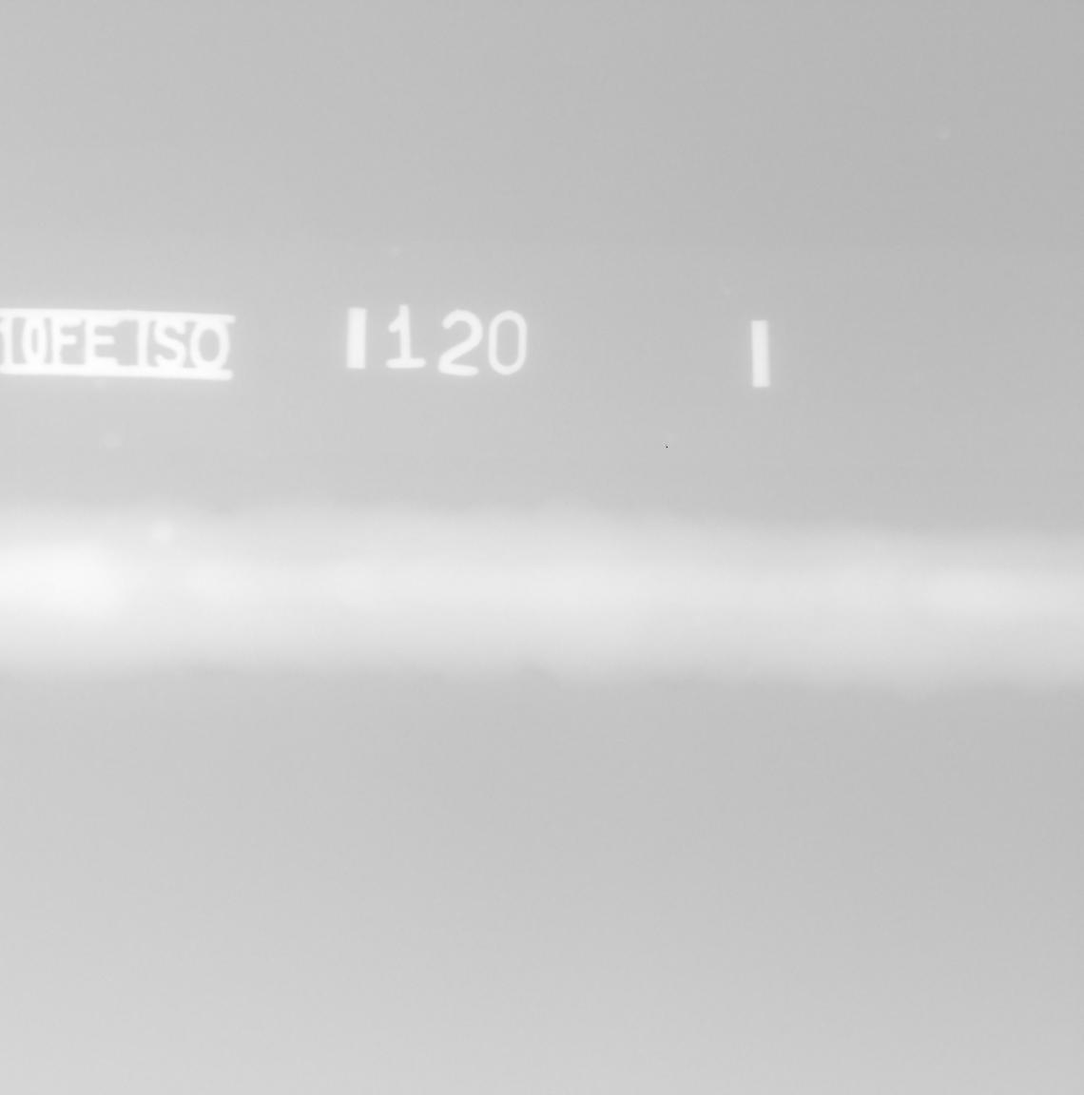Pore/Porosity: (690, 672, 704, 679), (699, 666, 705, 673)
